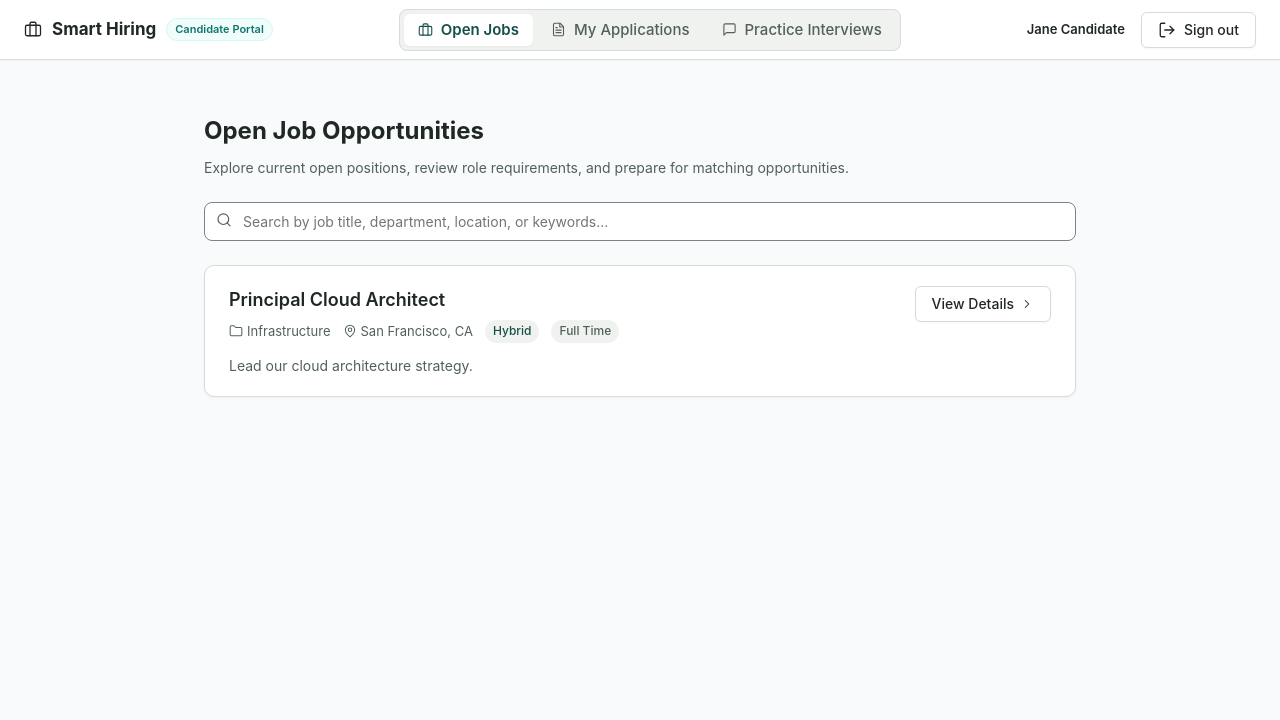
Test: Candidate Job Discovery (Phase 4B.3) › navigates to CandidateJobDetail on clicking View Details and displays candidate-safe fields without Apply button
Check: the heading "Principal Cloud Architect" is shown, box left=229, top=289, right=445, bottom=310
Click the button with aria-label "View details for Principal Cloud Architect".
click(983, 304)  # box left=914, top=286, right=1051, bottom=322
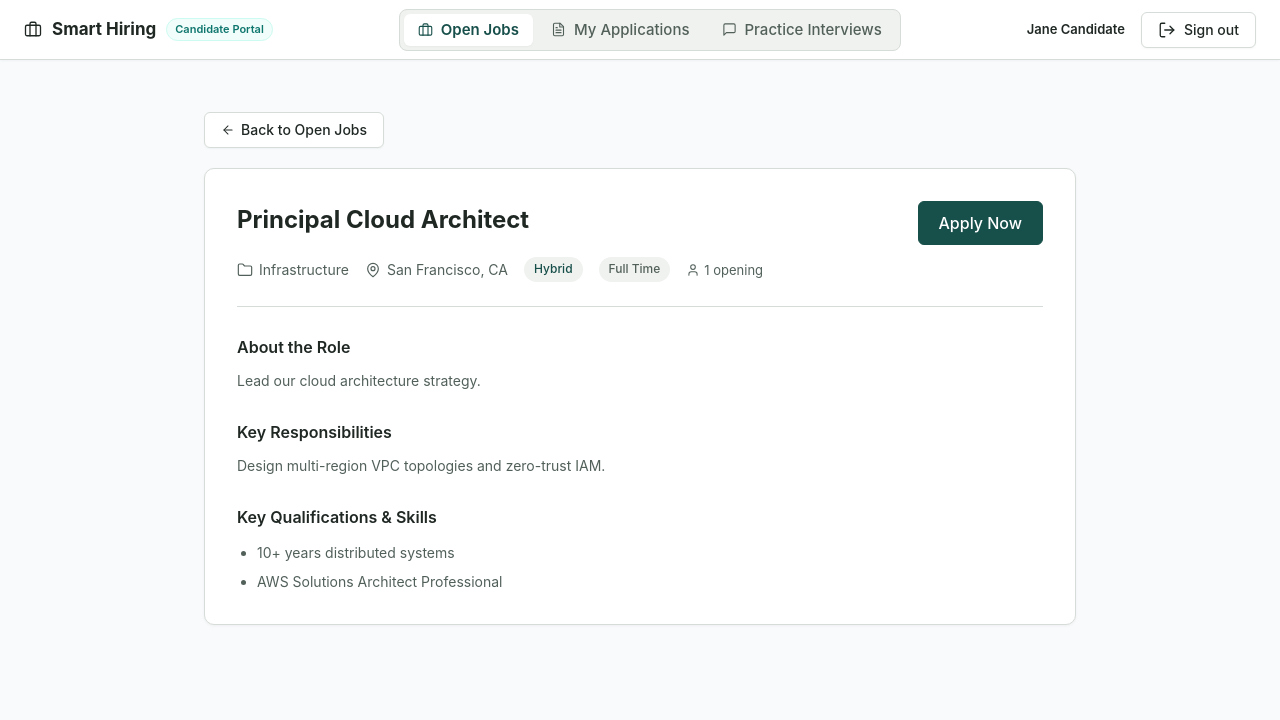
Check: the heading "Key Responsibilities" is shown, box left=237, top=422, right=392, bottom=442
Check: the text "Design multi-region VPC topologies and zero-trust IAM." is shown, box left=237, top=457, right=605, bottom=474
Check: the list item "10+ years distributed systems" is shown, box left=257, top=544, right=455, bottom=561
